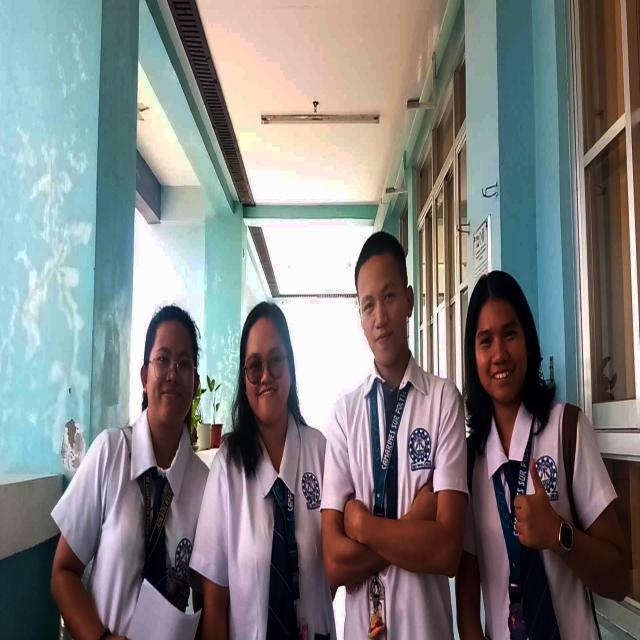thumbs_up: (510, 459, 560, 552)
